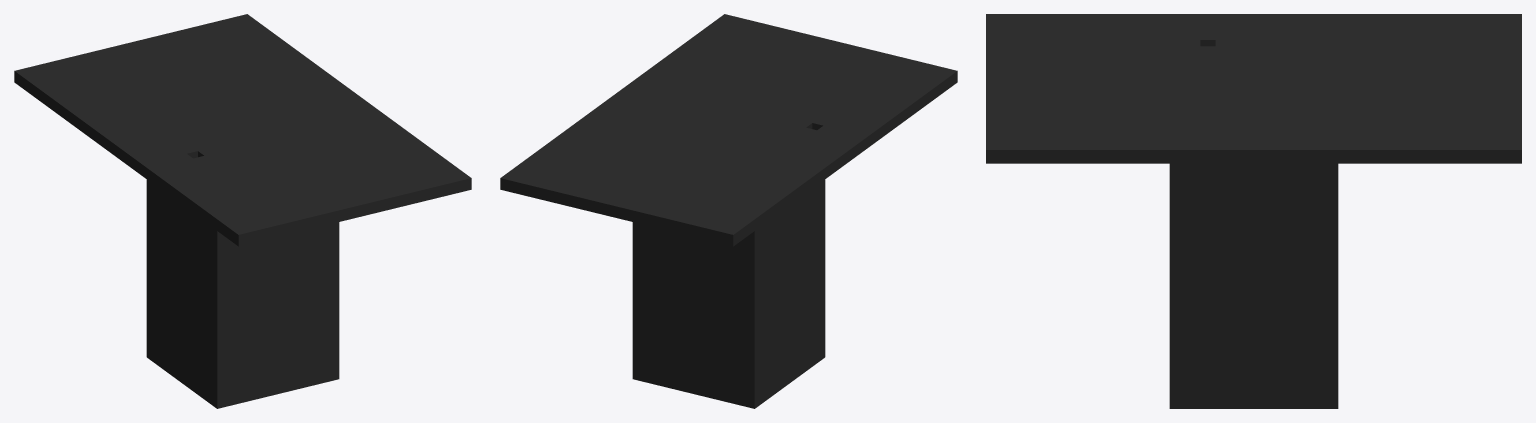
File: Dashboard.obj
3 views of the same model, side by side, from view 1: azimuth 30°, elevation 25°; view 2: azimuth 150°, elevation 25°; view 3: azimuth 270°, elevation 25° (orthographic). The views are drawn at different scales.
Size of the model in its own units: 21 by 21 by 35.
1 material, 1 textured.
